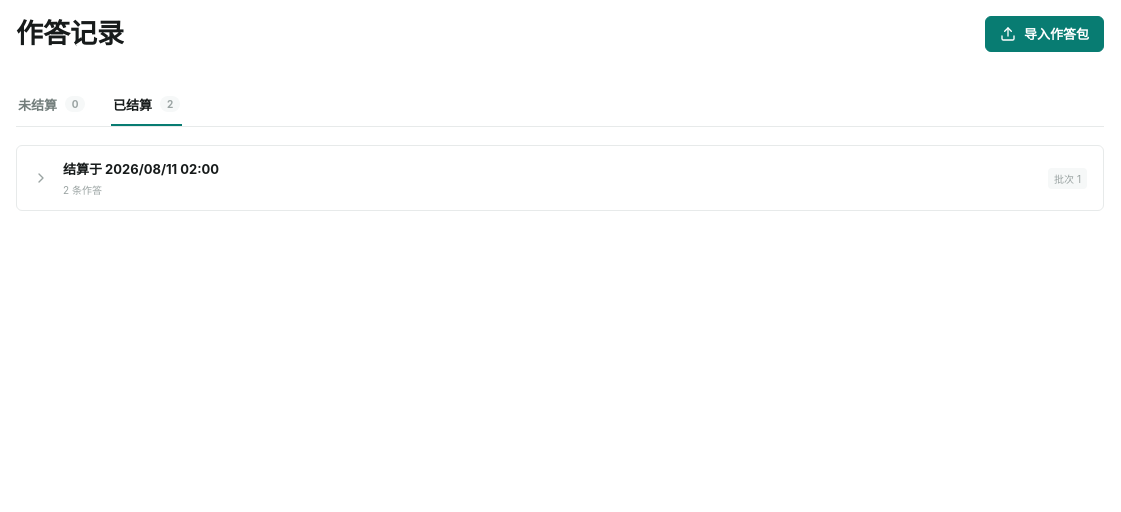
Test case: 批次报告导出 › 单份失败时列出失败原因
What coordinates should you click on to do the following:
click the button "结算于 2026/08/11 02:00 2 条作答 批次 1"
I would click on:
 (84, 169)
Its box is x1=17 y1=146 x2=1103 y2=210.
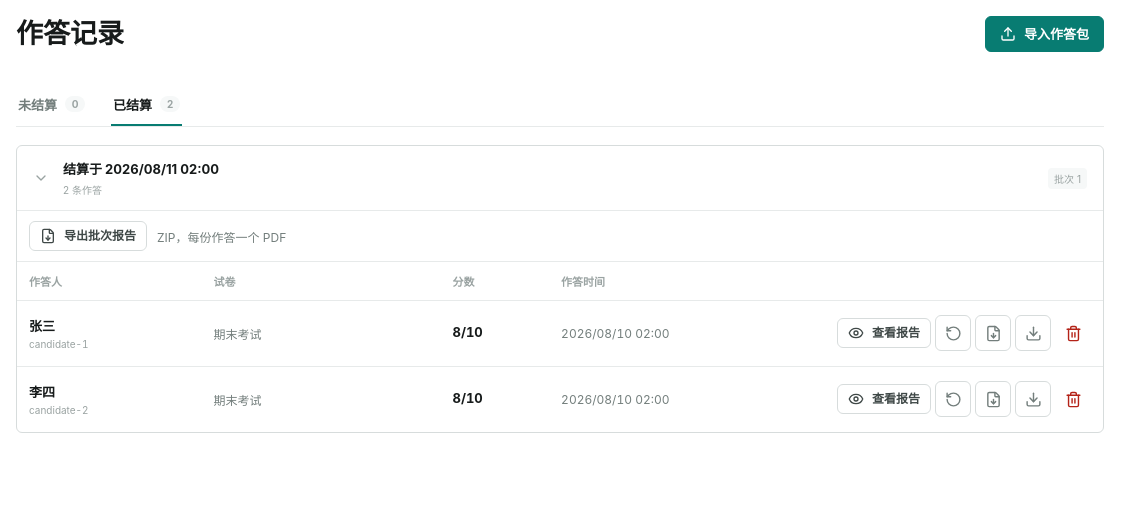
What coordinates should you click on to do the following:
click the button "导出批次报告"
I would click on:
 (88, 236)
Its box is x1=29 y1=221 x2=147 y2=251.
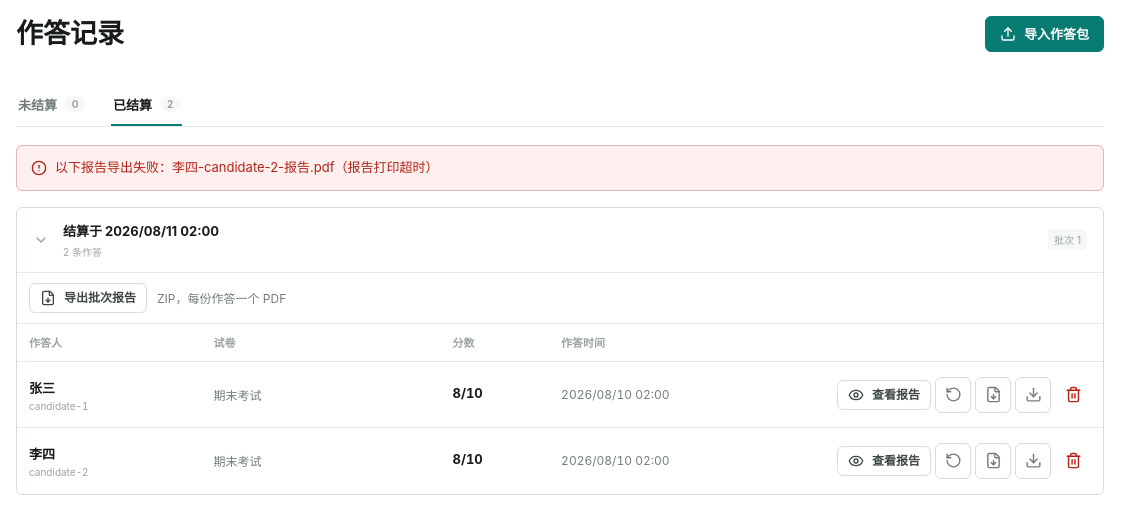
Now the message shows "李四-candidate-2-报告.pdf（报告打印超时）", box x1=55 y1=159 x2=438 y2=175
